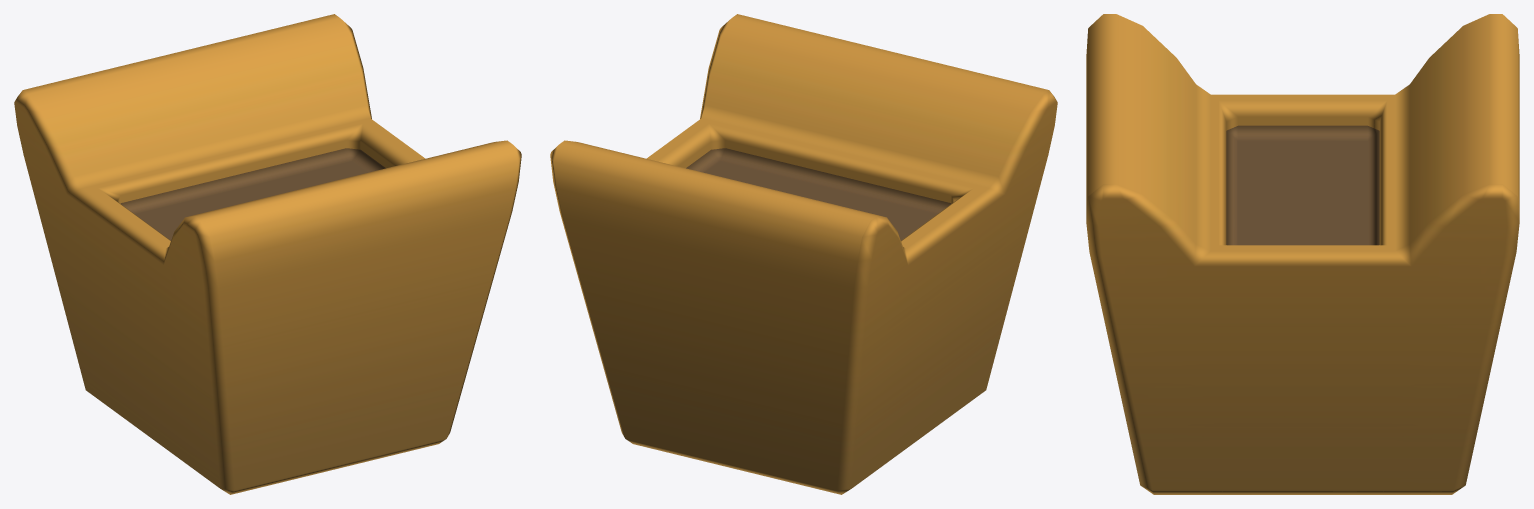
Rendered from PlantPot_CatEars.fbx.
3 views of the same model, side by side, from view 1: azimuth 30°, elevation 25°; view 2: azimuth 150°, elevation 25°; view 3: azimuth 270°, elevation 25° (orthographic). The views are drawn at different scales.
Visible parts, largest first — view 1: PlantPot_CatEars; view 2: PlantPot_CatEars; view 3: PlantPot_CatEars.
Part boxes in pixels (left/top/right/bottom): PlantPot_CatEars: left=14, top=14, right=521, bottom=494; PlantPot_CatEars: left=550, top=14, right=1057, bottom=494; PlantPot_CatEars: left=1086, top=14, right=1519, bottom=494.
Bounding box in the file's own units: 72.19 × 63.91 × 74.06.
